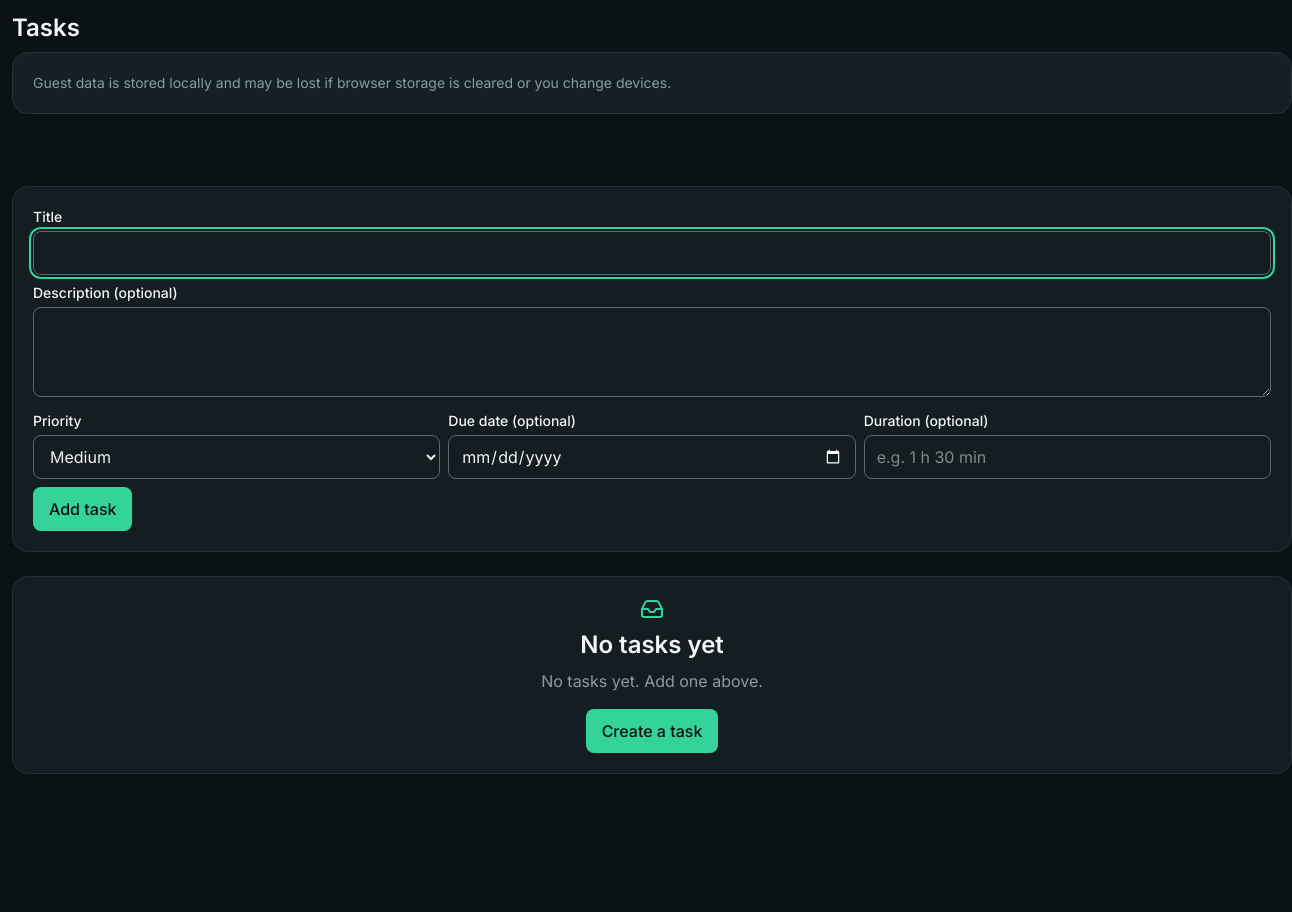
task accessibility › supports keyboard submission and returns focus without stealing it
The image size is (1292, 912).
Step 1. Type "Keyboard task" into the field labelled "Title" → (652, 253), box [33,231,1271,275]
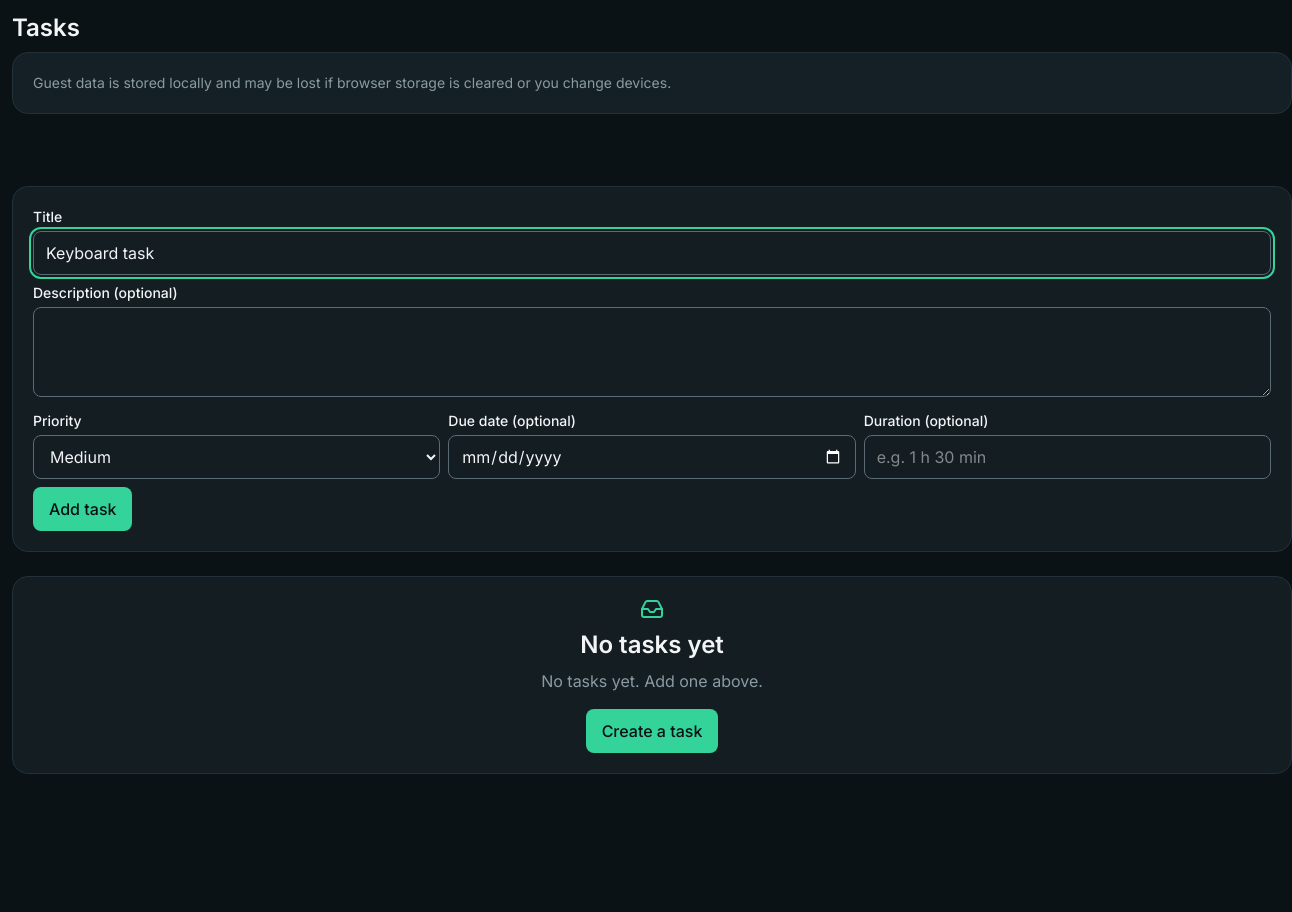
Step 2. Submit the form named "New task", box [12,186,1291,552]
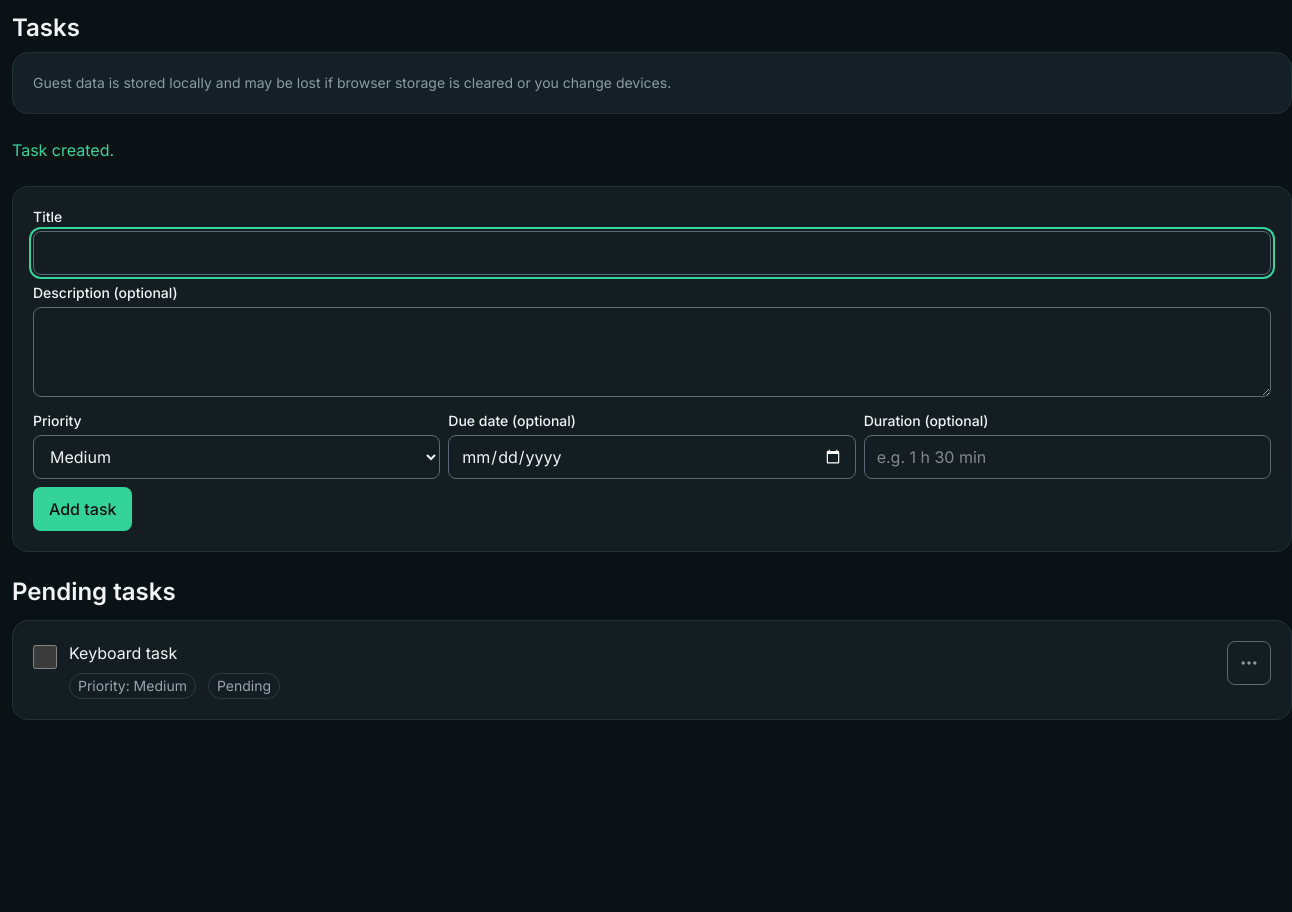
expect the text "Keyboard task" is shown: met, box [69,643,177,663]
expect the message reads "Task created.": met, box [12,140,114,160]
